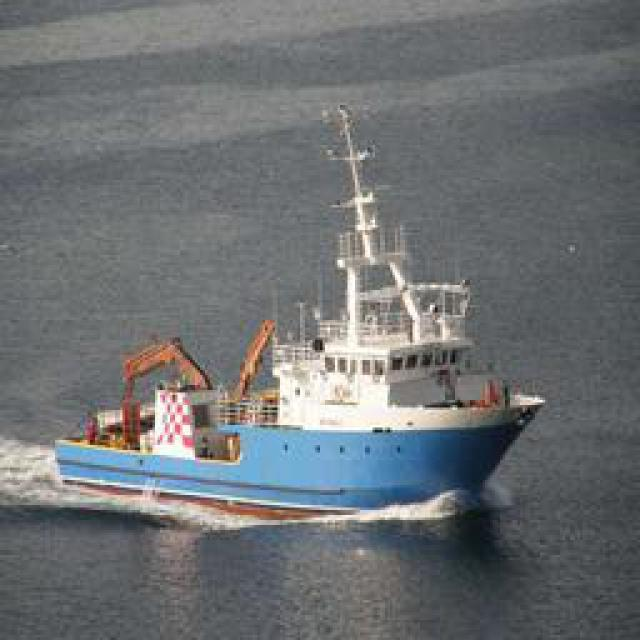Ship: (54, 95, 547, 523)
